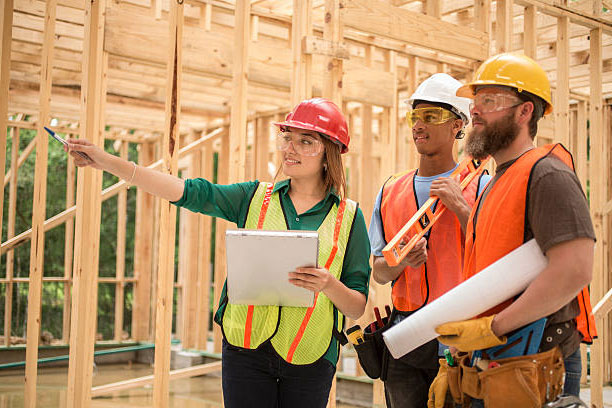hard hat: (455, 53, 553, 114), (274, 96, 351, 154), (403, 73, 469, 127)
high-vis: (464, 143, 598, 348), (222, 181, 358, 363), (378, 172, 490, 313)
